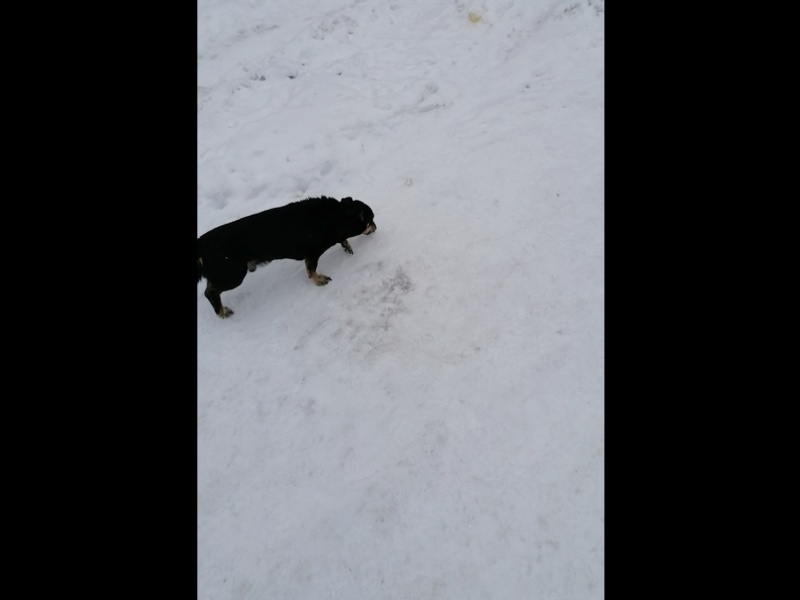dog: (197, 192, 378, 324)
